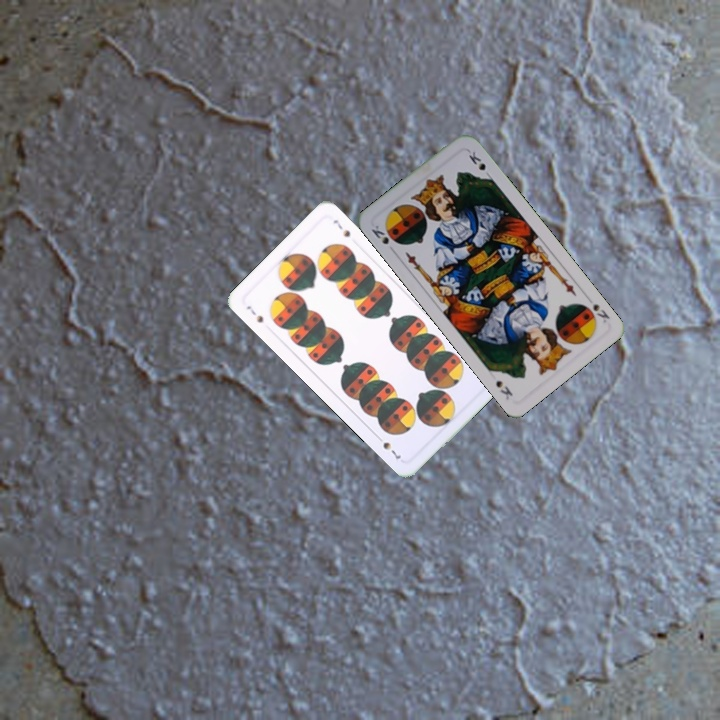S7: (242, 301, 266, 325)
SK: (367, 221, 398, 256), (589, 300, 612, 326)
